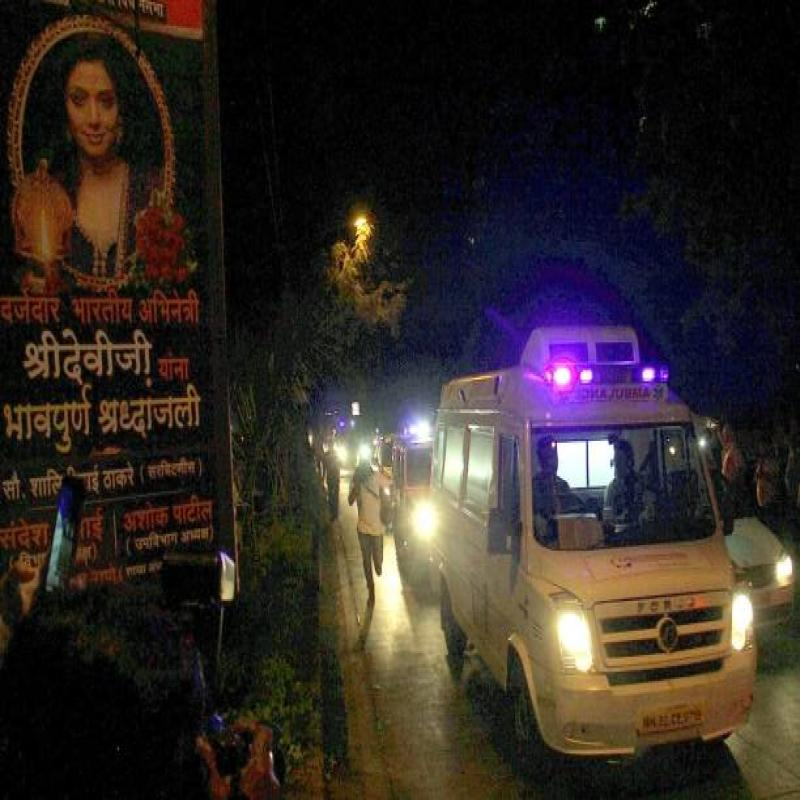ambulance: (423, 308, 773, 786)
